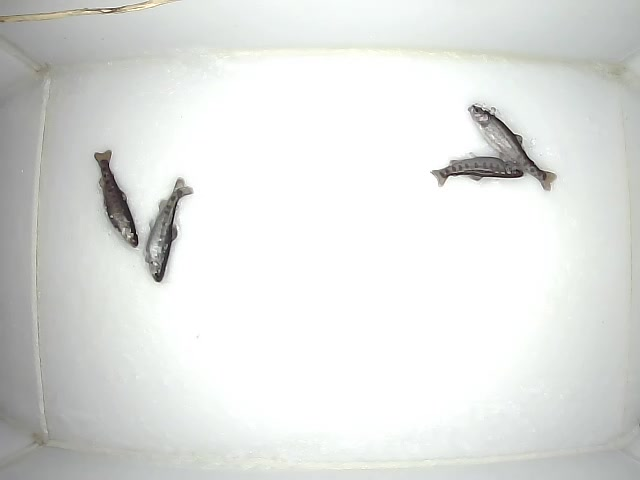fish: (467, 102, 559, 194), (142, 176, 195, 284), (91, 149, 138, 247), (428, 151, 524, 188)
